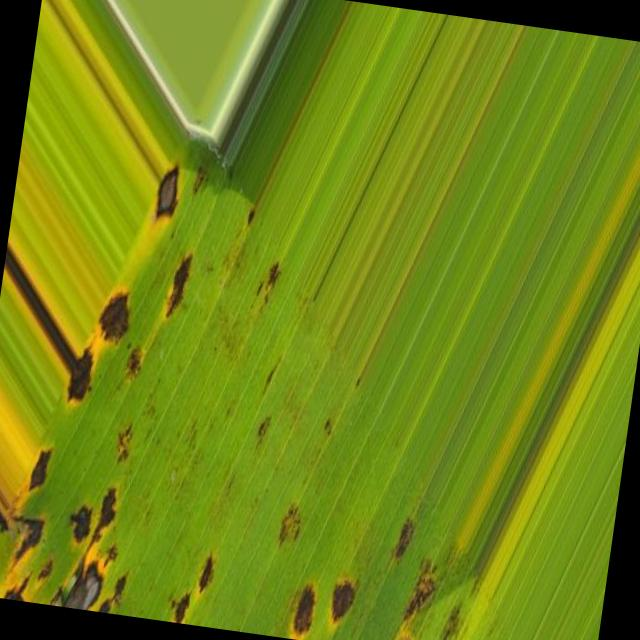Banana_Yellow_Sigatoka: (207, 471, 519, 640), (0, 430, 183, 620), (105, 94, 227, 242), (24, 334, 148, 426), (83, 262, 163, 366)
